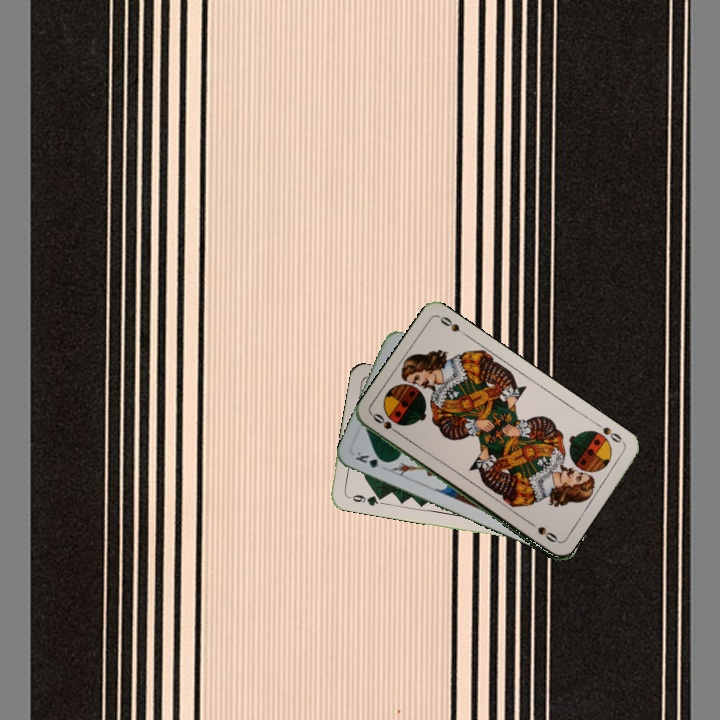G9: (344, 490, 385, 509)
GK: (351, 448, 391, 471)
SO: (588, 418, 627, 446), (368, 409, 404, 438)
